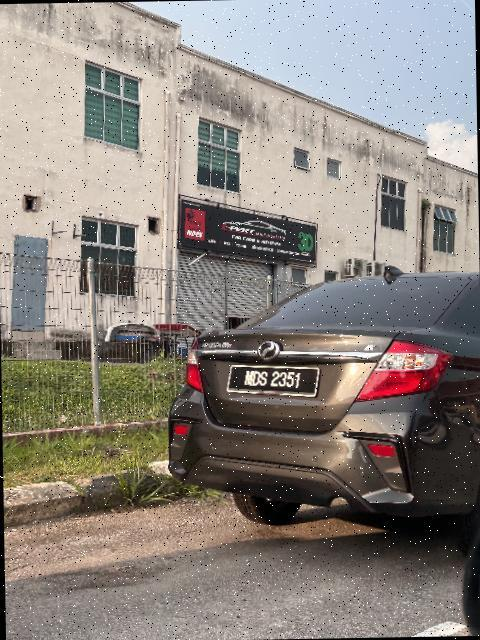License_Plate: (226, 363, 323, 400)
MDS2351: (226, 363, 323, 400)
car: (166, 268, 480, 546)
